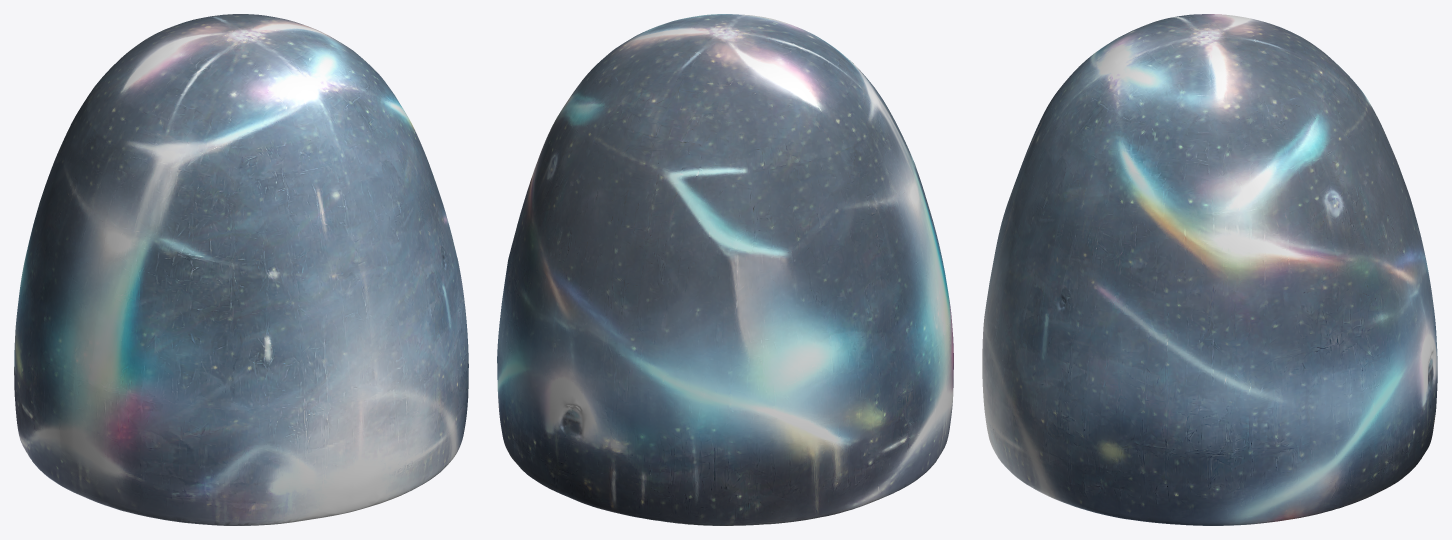
File: gem.glb
3 renders of one model, left to right at view 1: azimuth 30°, elevation 25°; view 2: azimuth 150°, elevation 25°; view 3: azimuth 270°, elevation 25°, orthographic.
Visible parts, largest first — view 1: Shield; view 2: Shield; view 3: Shield.
Boxes of the visible parts, <box> form: Shield: <box>14,14,468,525</box>; Shield: <box>497,14,953,525</box>; Shield: <box>982,14,1437,525</box>.
Size of the model in its own units: 0.5688 by 0.5494 by 0.5696.
1 material, 1 textured.
